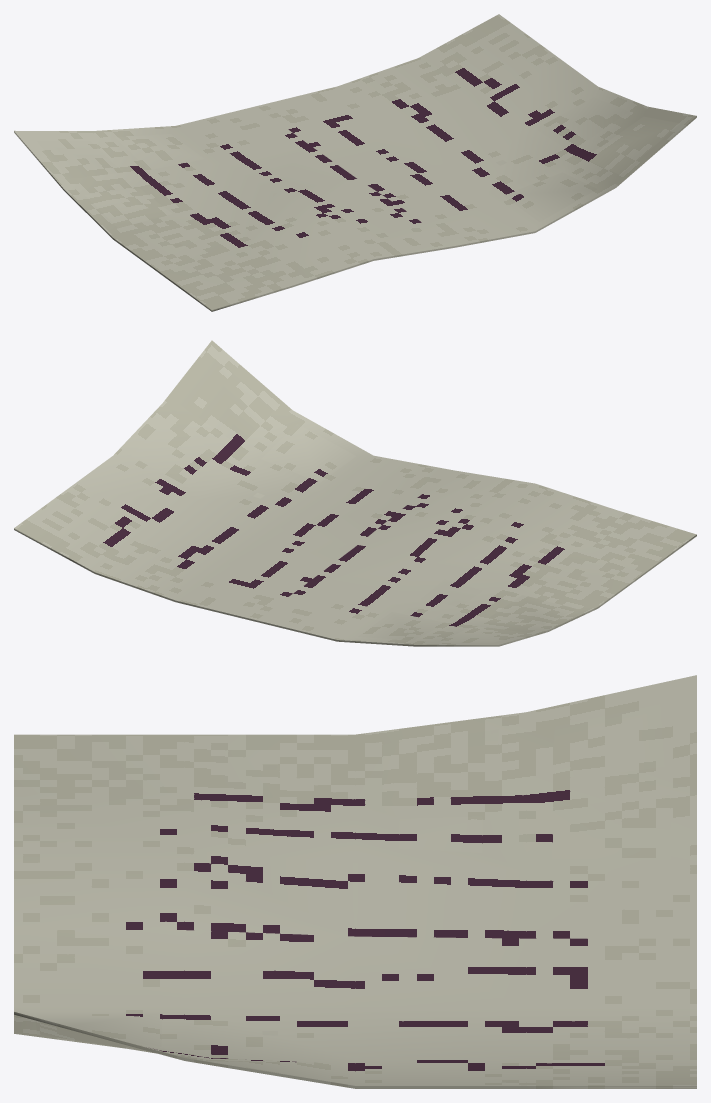
File: paper.obj
The picture shows the model from 3 angles, top to bottom: view 1: azimuth 30°, elevation 25°; view 2: azimuth 150°, elevation 25°; view 3: azimuth 270°, elevation 25°; orthographic projection. The views are drawn at different scales.
Parts seen in each view (by area): view 1: Cube; view 2: Cube; view 3: Cube.
Part boxes in pixels (x1,y1,x2,y2): Cube: [14, 14, 696, 311]; Cube: [14, 340, 696, 646]; Cube: [14, 675, 696, 1088].
Bounding box in the file's own units: 0.594 × 0.0909 × 0.42.
